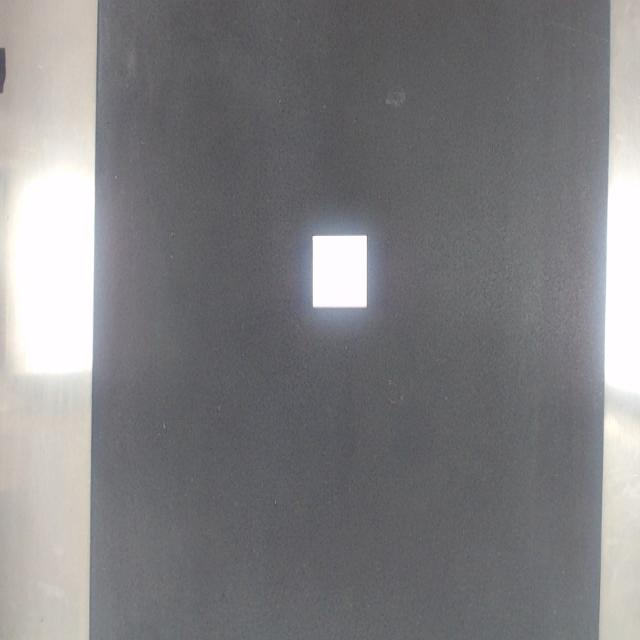Blanco: (312, 235, 366, 307)
